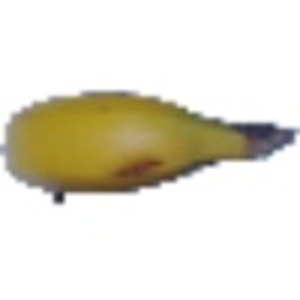banana: (7, 80, 287, 194)
